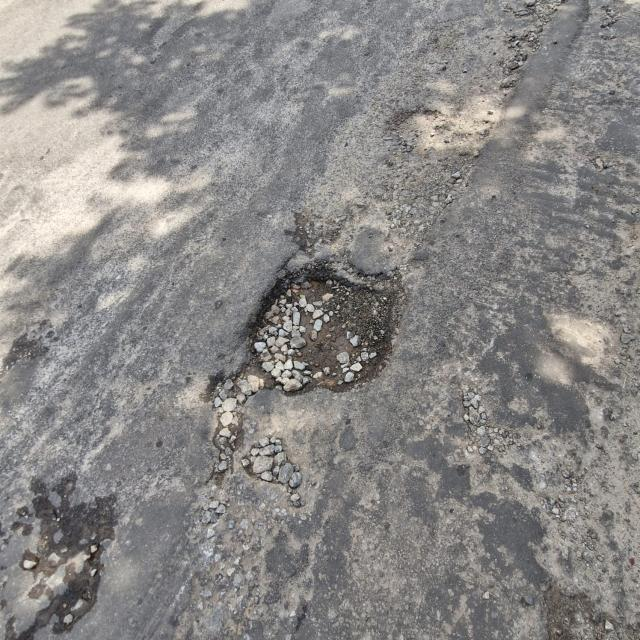pothole: (238, 247, 409, 426), (9, 458, 122, 640), (185, 508, 312, 640), (375, 106, 468, 248), (548, 465, 640, 565), (240, 432, 304, 506), (540, 575, 612, 639), (454, 376, 512, 454), (496, 5, 534, 84), (202, 362, 224, 487), (3, 317, 50, 371), (286, 210, 344, 247)
